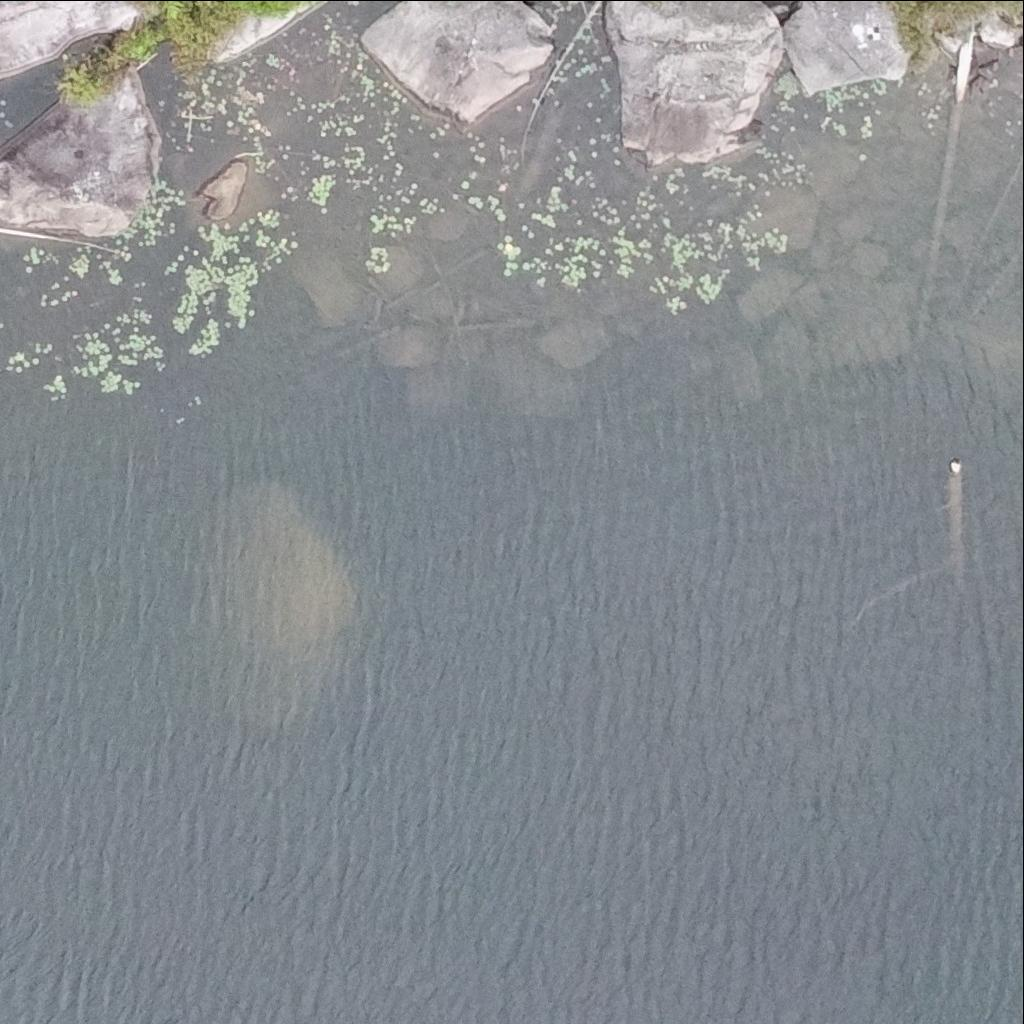crown: (230, 0, 297, 13)
